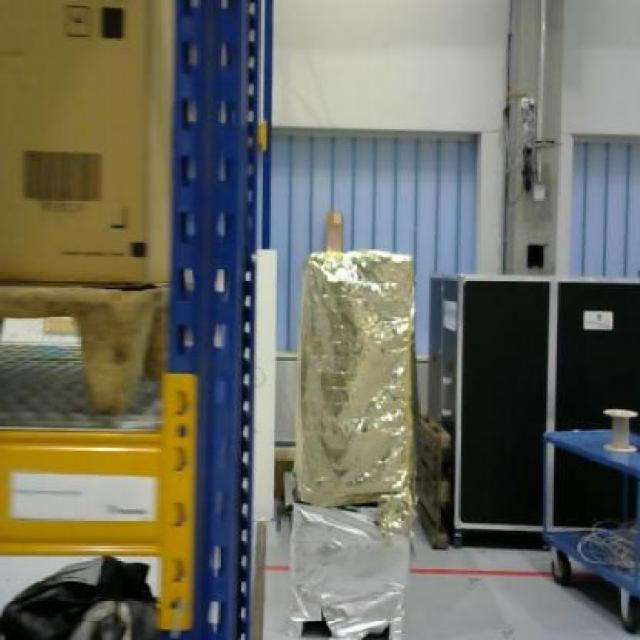box: (0, 0, 172, 283)
